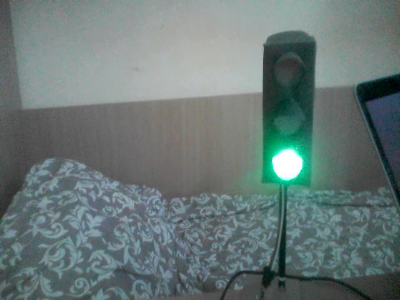trafficlight_green: (264, 42, 310, 183)
